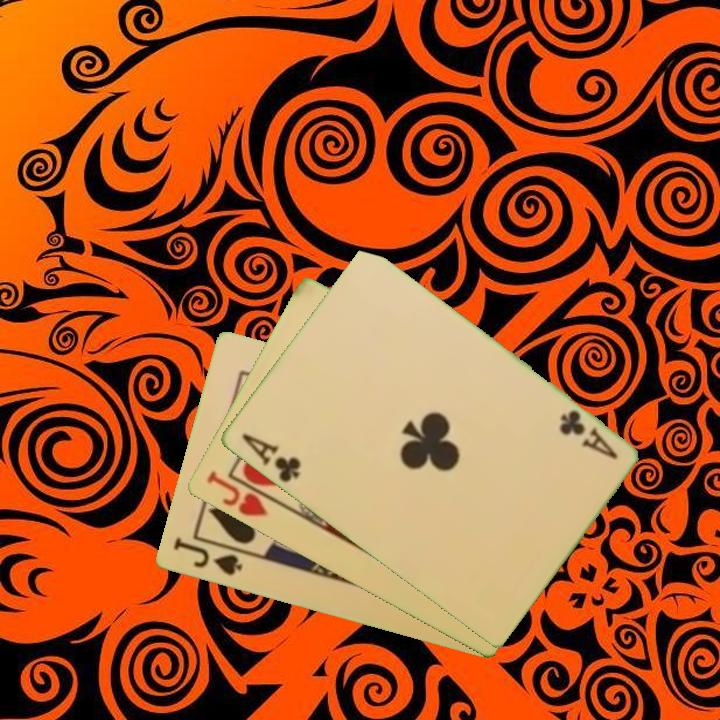Ac: (237, 429, 304, 486), (555, 406, 620, 463)
Jh: (202, 467, 271, 520)
Js: (169, 534, 245, 579)
